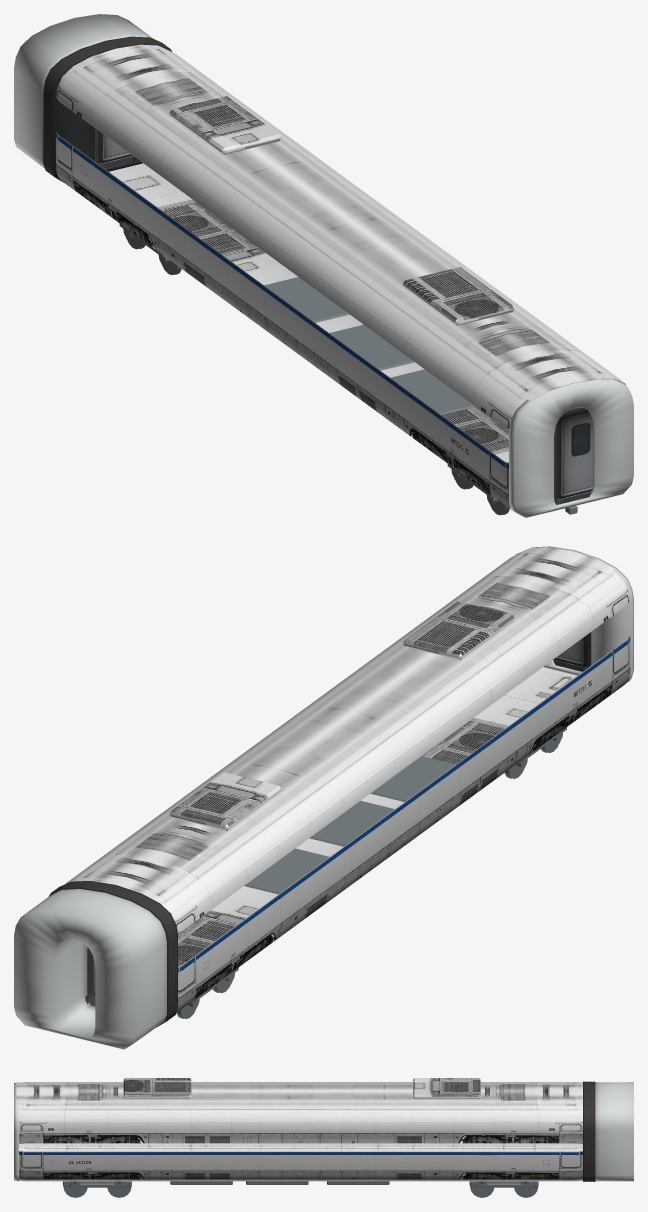
File: crh-coach-mobile-v4.glb
The picture shows the model from 3 angles, top to bottom: view 1: azimuth 30°, elevation 25°; view 2: azimuth 150°, elevation 25°; view 3: azimuth 270°, elevation 25°; orthographic projection. The views are drawn at different scales.
Parts seen in each view (by area): view 1: crh_V4_Connected_Proxy_Coach; view 2: crh_V4_Connected_Proxy_Coach; view 3: crh_V4_Connected_Proxy_Coach.
Boxes of the visible parts, x1,y1,x2,y2 form: crh_V4_Connected_Proxy_Coach: (14,14,633,517); crh_V4_Connected_Proxy_Coach: (14,546,633,1049); crh_V4_Connected_Proxy_Coach: (14,1078,633,1197).
Bounding box in the file's own units: 3.44 × 4.37 × 23.78.
Materials: 7 (2 with a texture image).
